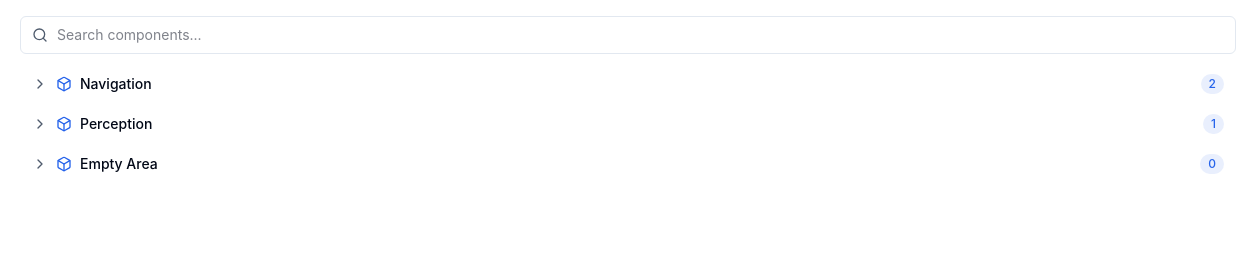
ComponentTree › expands and collapses areas on click
Expected: the text "Path Planner" is not shown
Click the list item with aria-label "navigation area".
click(116, 84)  # box [20,66,1236,102]
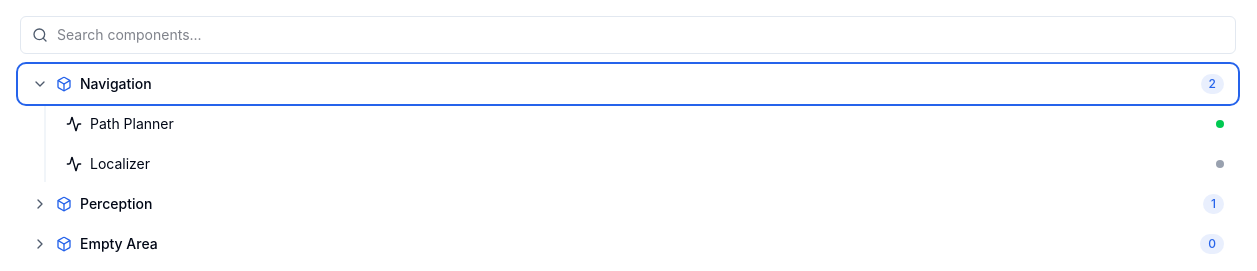
Expected: the text "Path Planner" is shown, [90,115,174,132]
Expected: the text "Localizer" is shown, [90,155,150,172]
Note: Click again to collapse
Click the list item with aria-label "navigation area".
click(116, 84)  # box [20,66,1236,102]
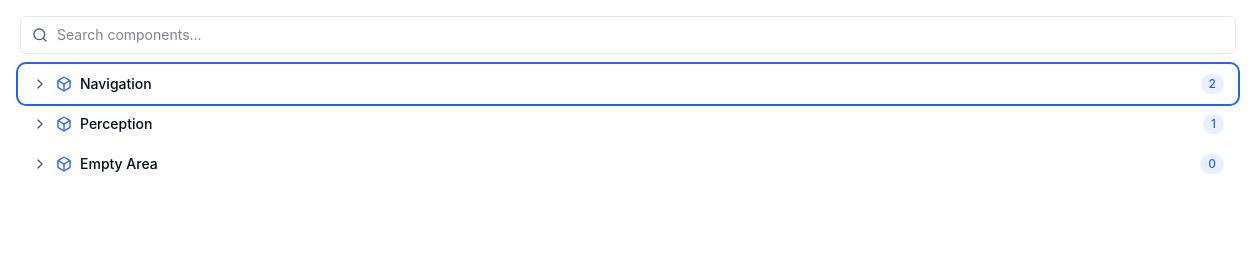
Expected: the list item "Path Planner" is gone
